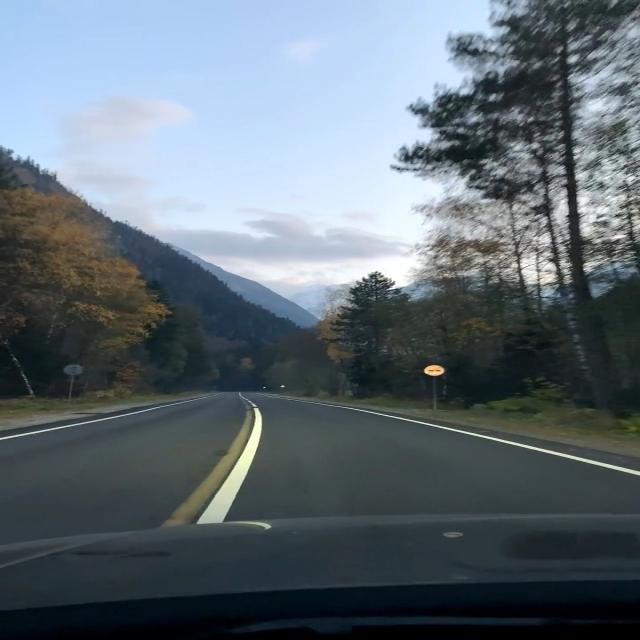lane: (267, 396, 640, 476), (162, 405, 253, 527), (198, 406, 262, 524)
road: (0, 393, 637, 640)
